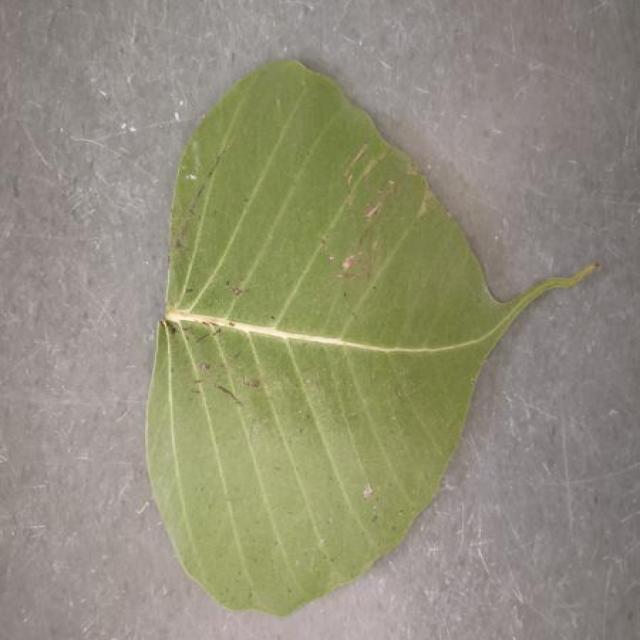arali: (147, 61, 595, 614)
